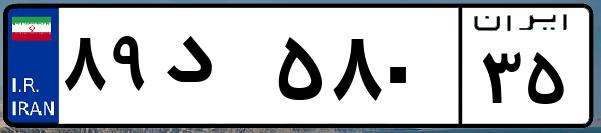0: (385, 28, 445, 110)
3: (475, 38, 525, 113)
5: (270, 28, 330, 110), (525, 38, 570, 115)
8: (330, 28, 385, 110), (57, 26, 110, 100)
9: (110, 28, 158, 98)
د: (158, 20, 270, 120)
